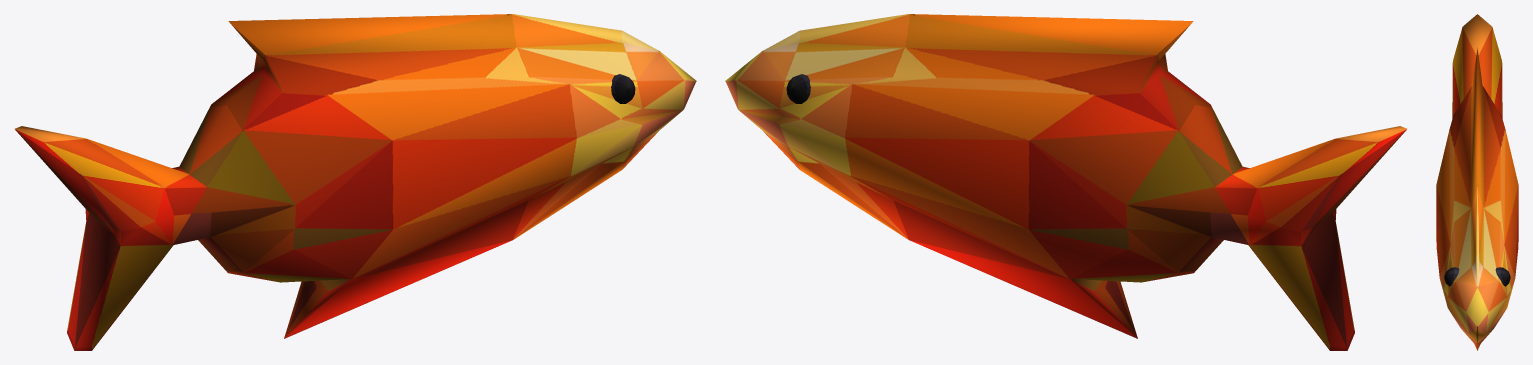
The model's file is Fish_01.FBX.
3 renders of one model, left to right at view 1: azimuth 30°, elevation 25°; view 2: azimuth 150°, elevation 25°; view 3: azimuth 270°, elevation 25°, orthographic. The views are drawn at different scales.
Parts seen in each view (by area): view 1: Box001; view 2: Box001; view 3: Box001.
Boxes of the visible parts, x1,y1,x2,y2 form: Box001: (15,14,696,350); Box001: (725,14,1406,350); Box001: (1436,14,1518,350).
Bounding box in the file's own units: 286 × 133 × 42.98.
